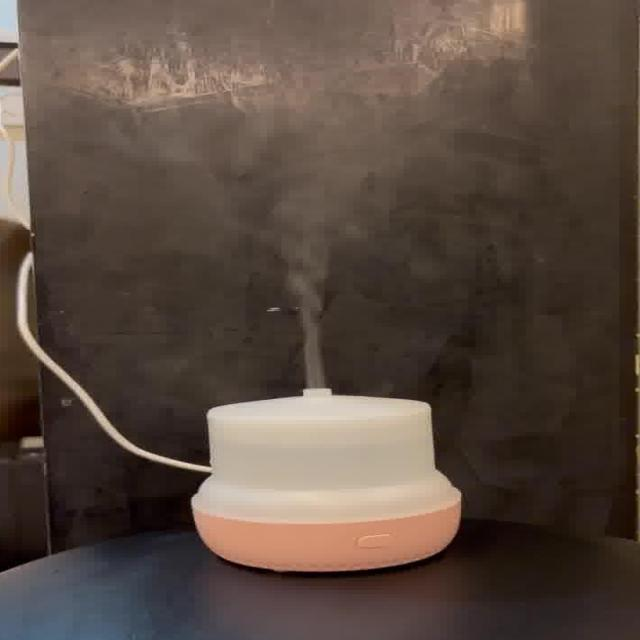fire: (216, 103, 427, 384)
